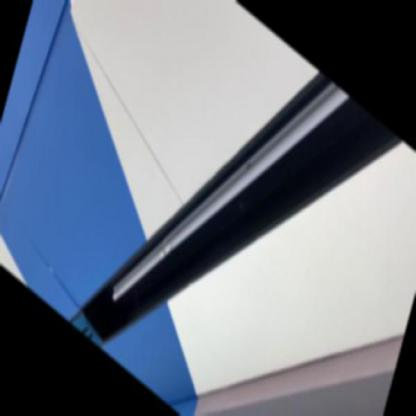light_off: (102, 0, 362, 415)
